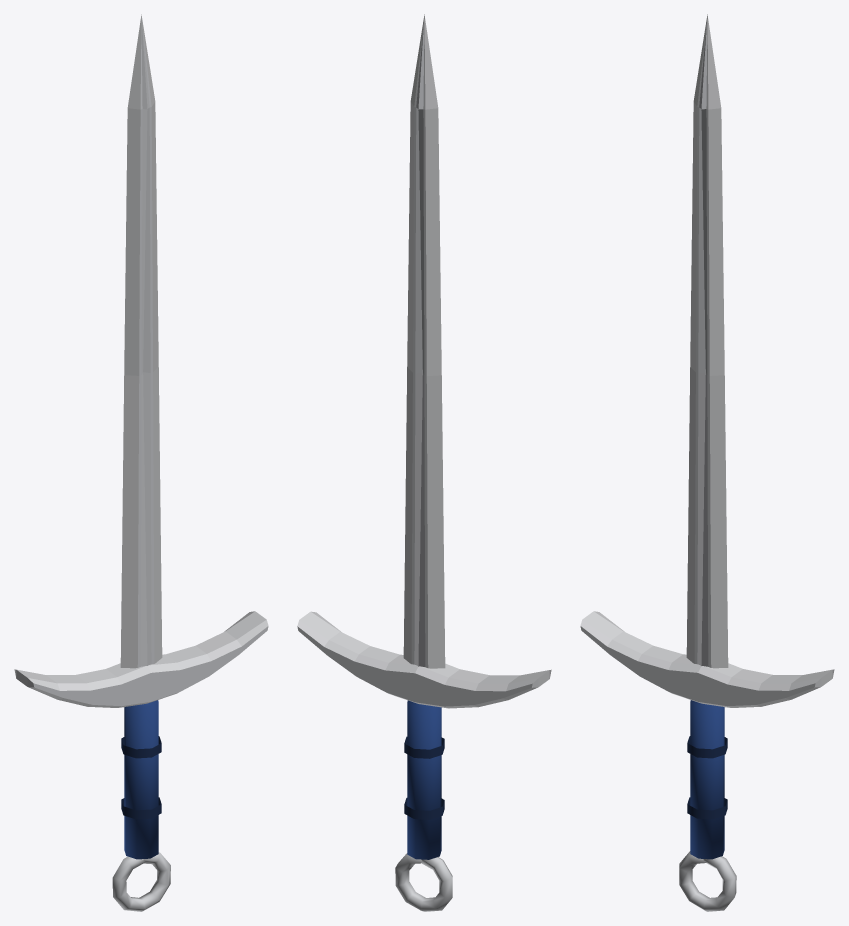
The model's file is silver_shortsword.glb.
3 renders of one model, left to right at view 1: azimuth 30°, elevation 25°; view 2: azimuth 150°, elevation 25°; view 3: azimuth 330°, elevation 25°, orthographic.
Parts seen in each view (by area): view 1: silver_shortsword_v0; view 2: silver_shortsword_v0; view 3: silver_shortsword_v0.
Part boxes in pixels (box(x1,y1,x2,y2)): silver_shortsword_v0: box(14, 14, 268, 911); silver_shortsword_v0: box(297, 14, 551, 911); silver_shortsword_v0: box(580, 14, 834, 911).
Size of the model in its own units: 0.3277 by 1.18 by 0.0496.
